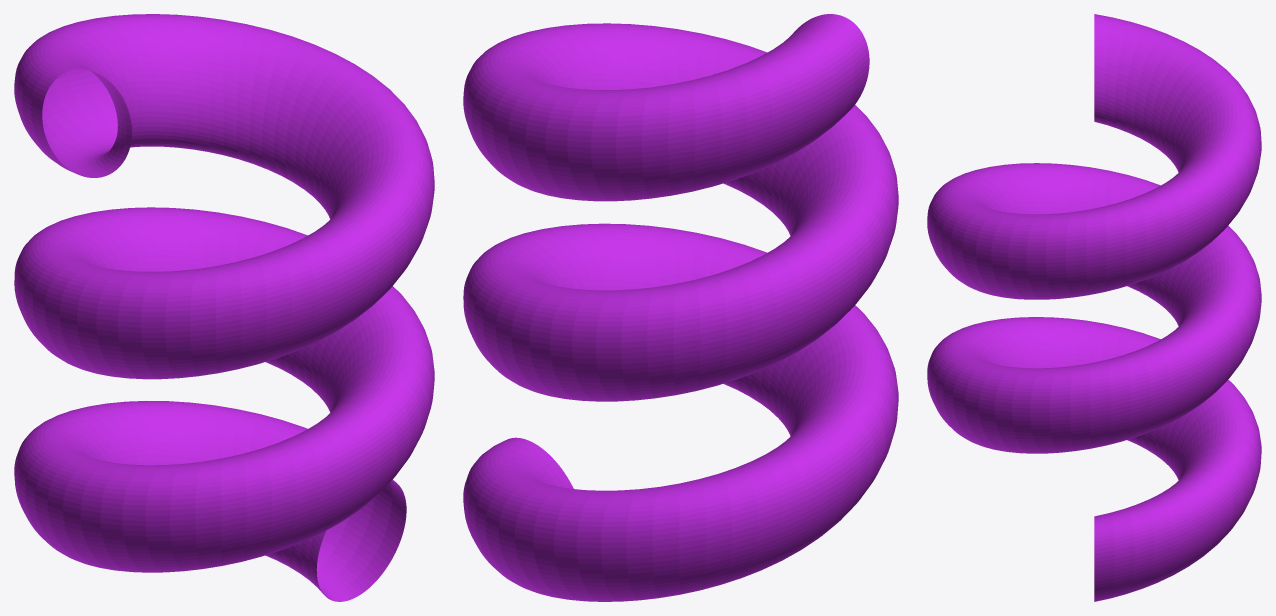
Rendered from elips.glb.
3 views of the same model, side by side, from view 1: azimuth 30°, elevation 25°; view 2: azimuth 150°, elevation 25°; view 3: azimuth 270°, elevation 25° (orthographic). The views are drawn at different scales.
Parts seen in each view (by area): view 1: elips; view 2: elips; view 3: elips.
Boxes of the visible parts, x1=… form: elips: x1=14, y1=14, x2=434, y2=601; elips: x1=463, y1=14, x2=898, y2=601; elips: x1=927, y1=14, x2=1261, y2=601.
Bounding box in the file's own units: 2.38 × 3.72 × 2.37.
